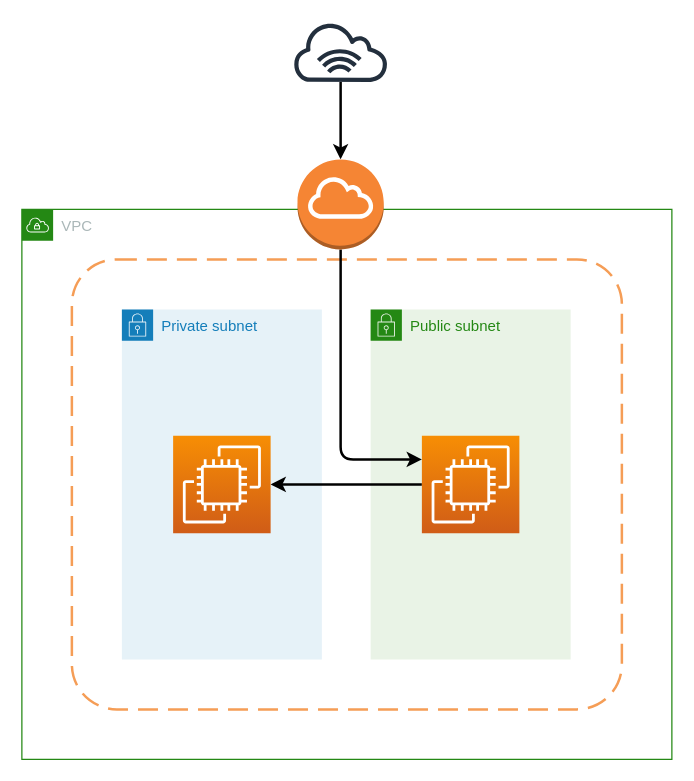
This 694x781 diagram has some shape labels left out. The centre of each missing label's shape, as x and y in pixels:
Bastion Host: pixel 470 483
GouPang: pixel 221 483
